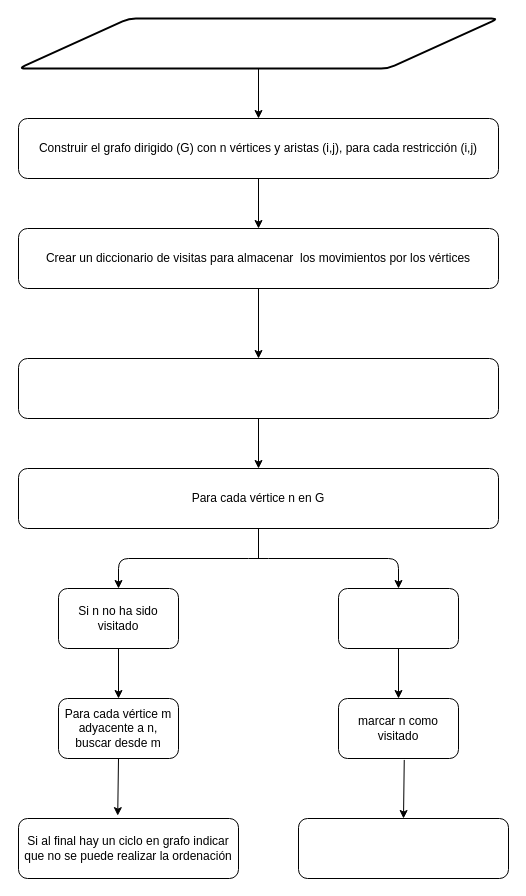
The diagram is 526 pixels wide and 896 high, and some of its shapes have lost their labels. Each missing label, with the centre of its shape:
Crear lista vacía para almacenar el orden topológico de las tareas: pixel 258 388
Devolver la lista con el orden topológico de las tareas: pixel 403 848
ENTRADA: n tareas y restricciones (i,j): pixel 258 43
n ha sido visitado: pixel 398 618
